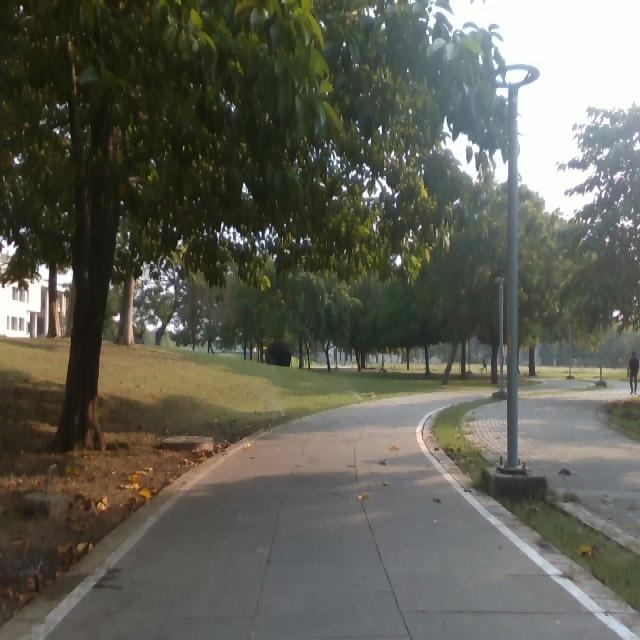lane: (49, 388, 622, 639)
